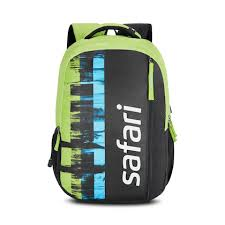backpack: (47, 22, 176, 204)
